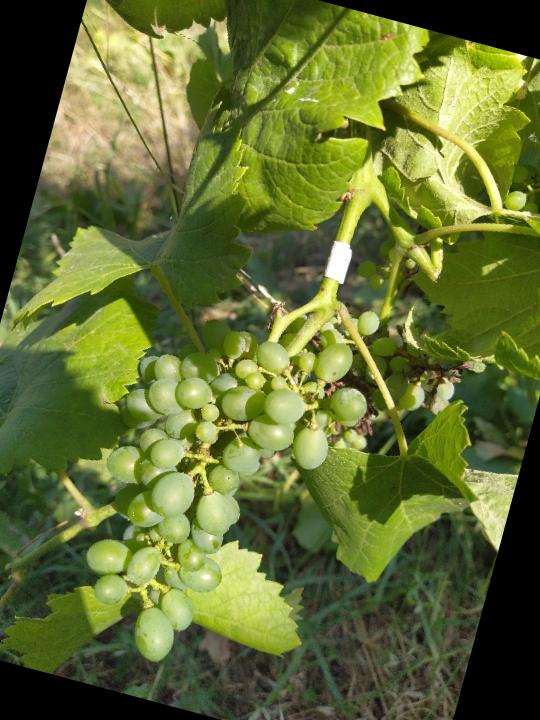grape: (29, 281, 389, 706)
